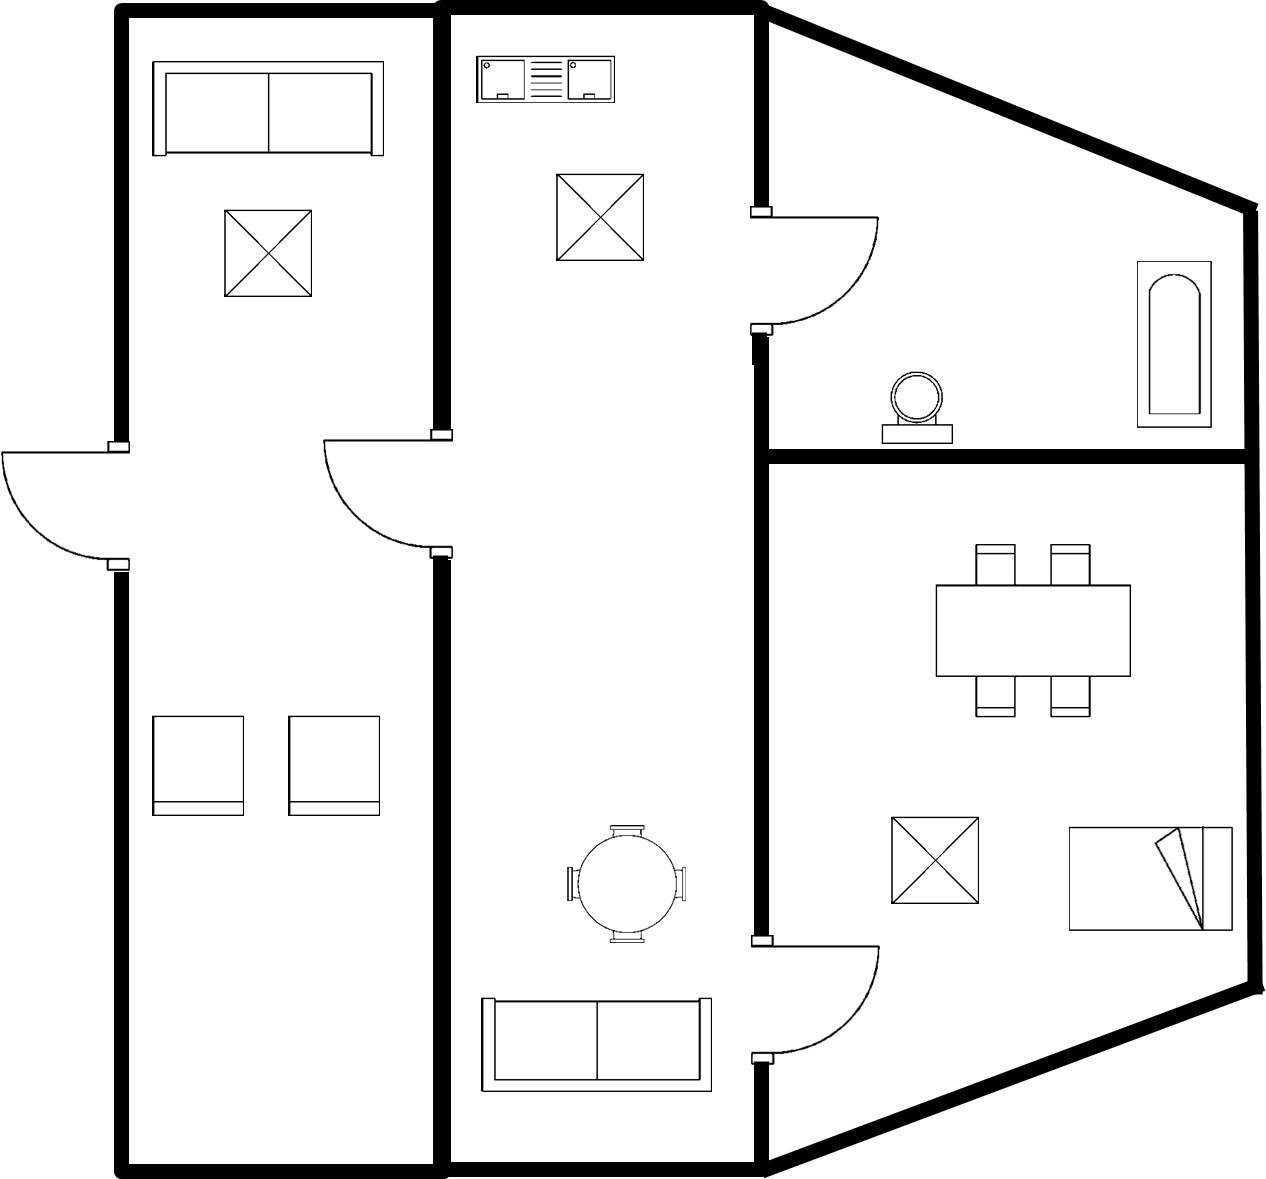bed: (1060, 814, 1241, 940)
coffee_table: (545, 164, 652, 270), (882, 810, 988, 917), (214, 203, 321, 304)
dining_table: (925, 532, 1142, 727)
large_sink: (869, 363, 958, 448)
large_sofa: (466, 987, 720, 1101), (144, 52, 392, 165)
round_table: (560, 816, 694, 950)
small_sofa: (277, 703, 391, 824), (143, 707, 250, 820)
tub: (1125, 253, 1219, 437)
twin_sink: (464, 45, 623, 111)
